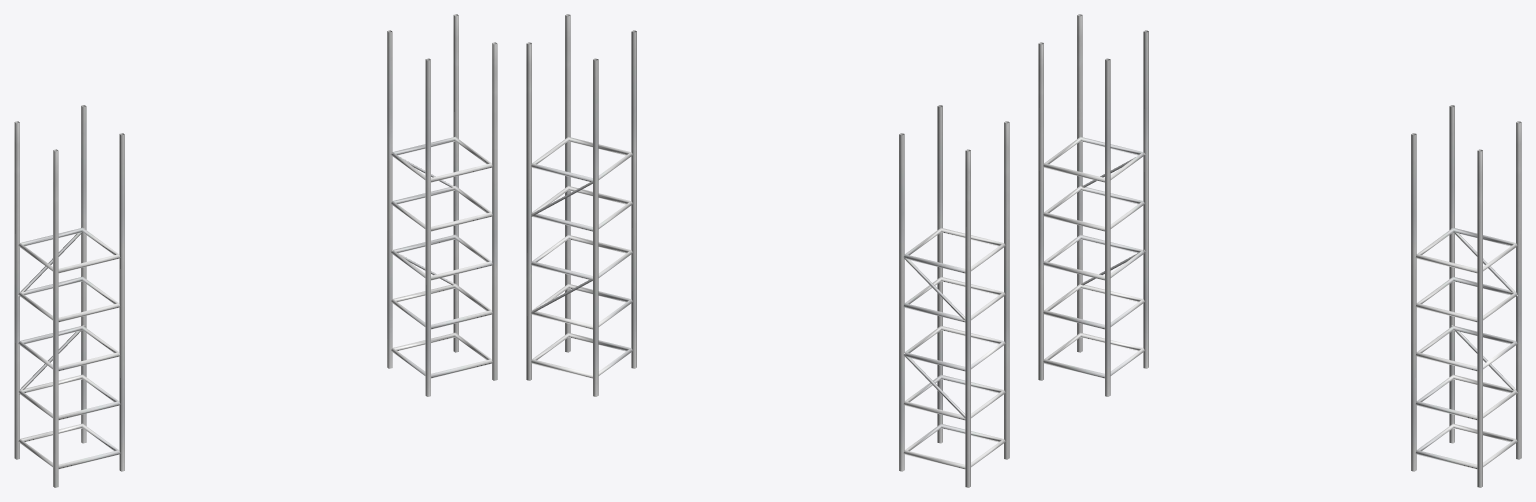
Rendered from Rear_Scaffold.fbx.
The picture shows the model from 3 angles, left to right: view 1: azimuth 30°, elevation 25°; view 2: azimuth 150°, elevation 25°; view 3: azimuth 330°, elevation 25°; orthographic projection.
Parts seen in each view (by area): view 1: Rear_Scaffold; view 2: Rear_Scaffold; view 3: Rear_Scaffold.
Boxes of the visible parts, box(x1,y1,x2,y2) form: Rear_Scaffold: box(14, 14, 497, 487); Rear_Scaffold: box(526, 14, 1009, 487); Rear_Scaffold: box(1038, 14, 1521, 487).
Size of the model in its own units: 16.78 by 12.19 by 2.66.
